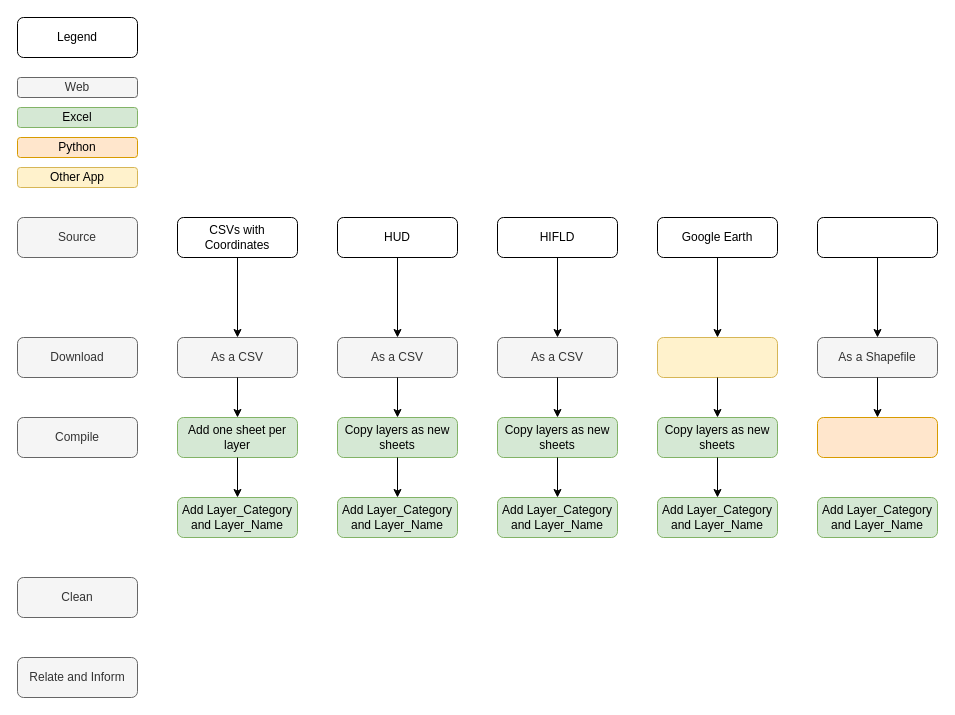
Some shapes in this 955 by 715 pixel diagram are drawn without their labels. Here are the shapes that lost their labels. From the top down, the centre of each, then its label:
(877,237): Census Polygons
(717,357): As a KML
(877,437): Read in shapefiles
